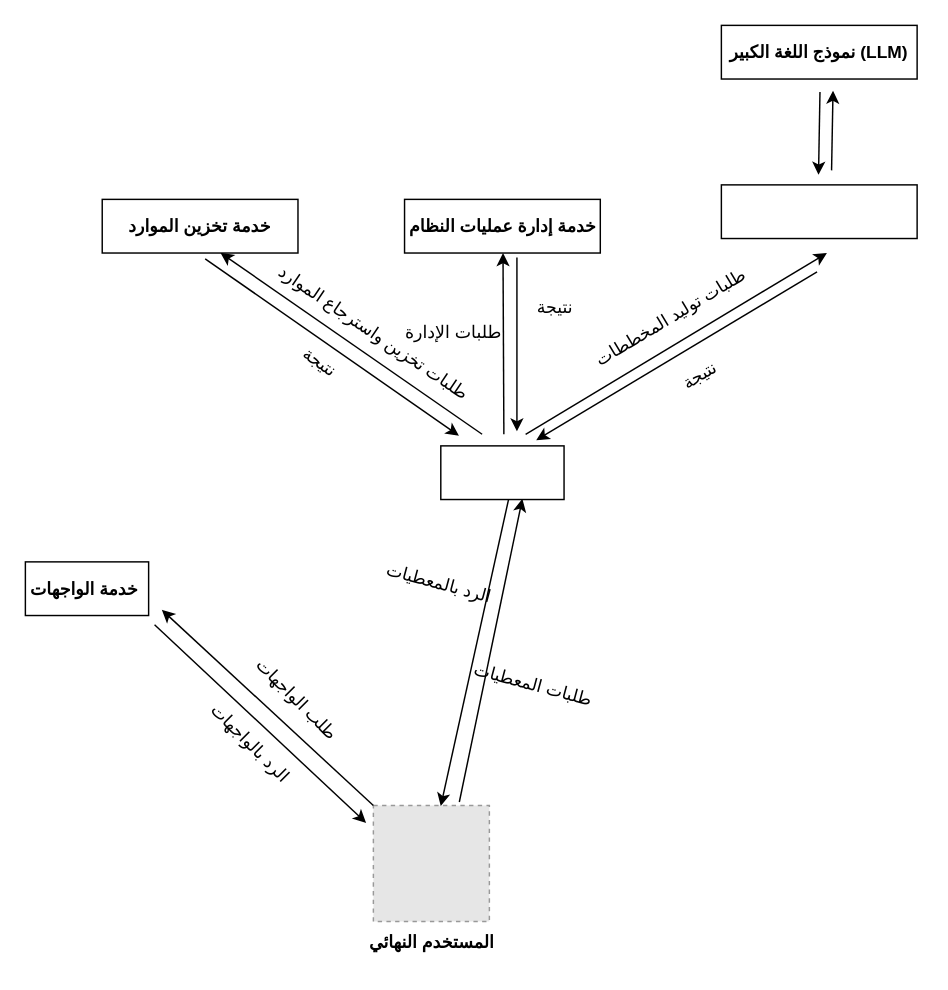
Some shapes in this 948 by 990 pixel diagram are drawn without their labels. Grey dashed boxes stand in for pictures. The centre of each missing label's shape, as x and y in pixels:
خدمة البوابة: the point at 501,472
خدمة توليد مخططات BPMN: the point at 818,211
